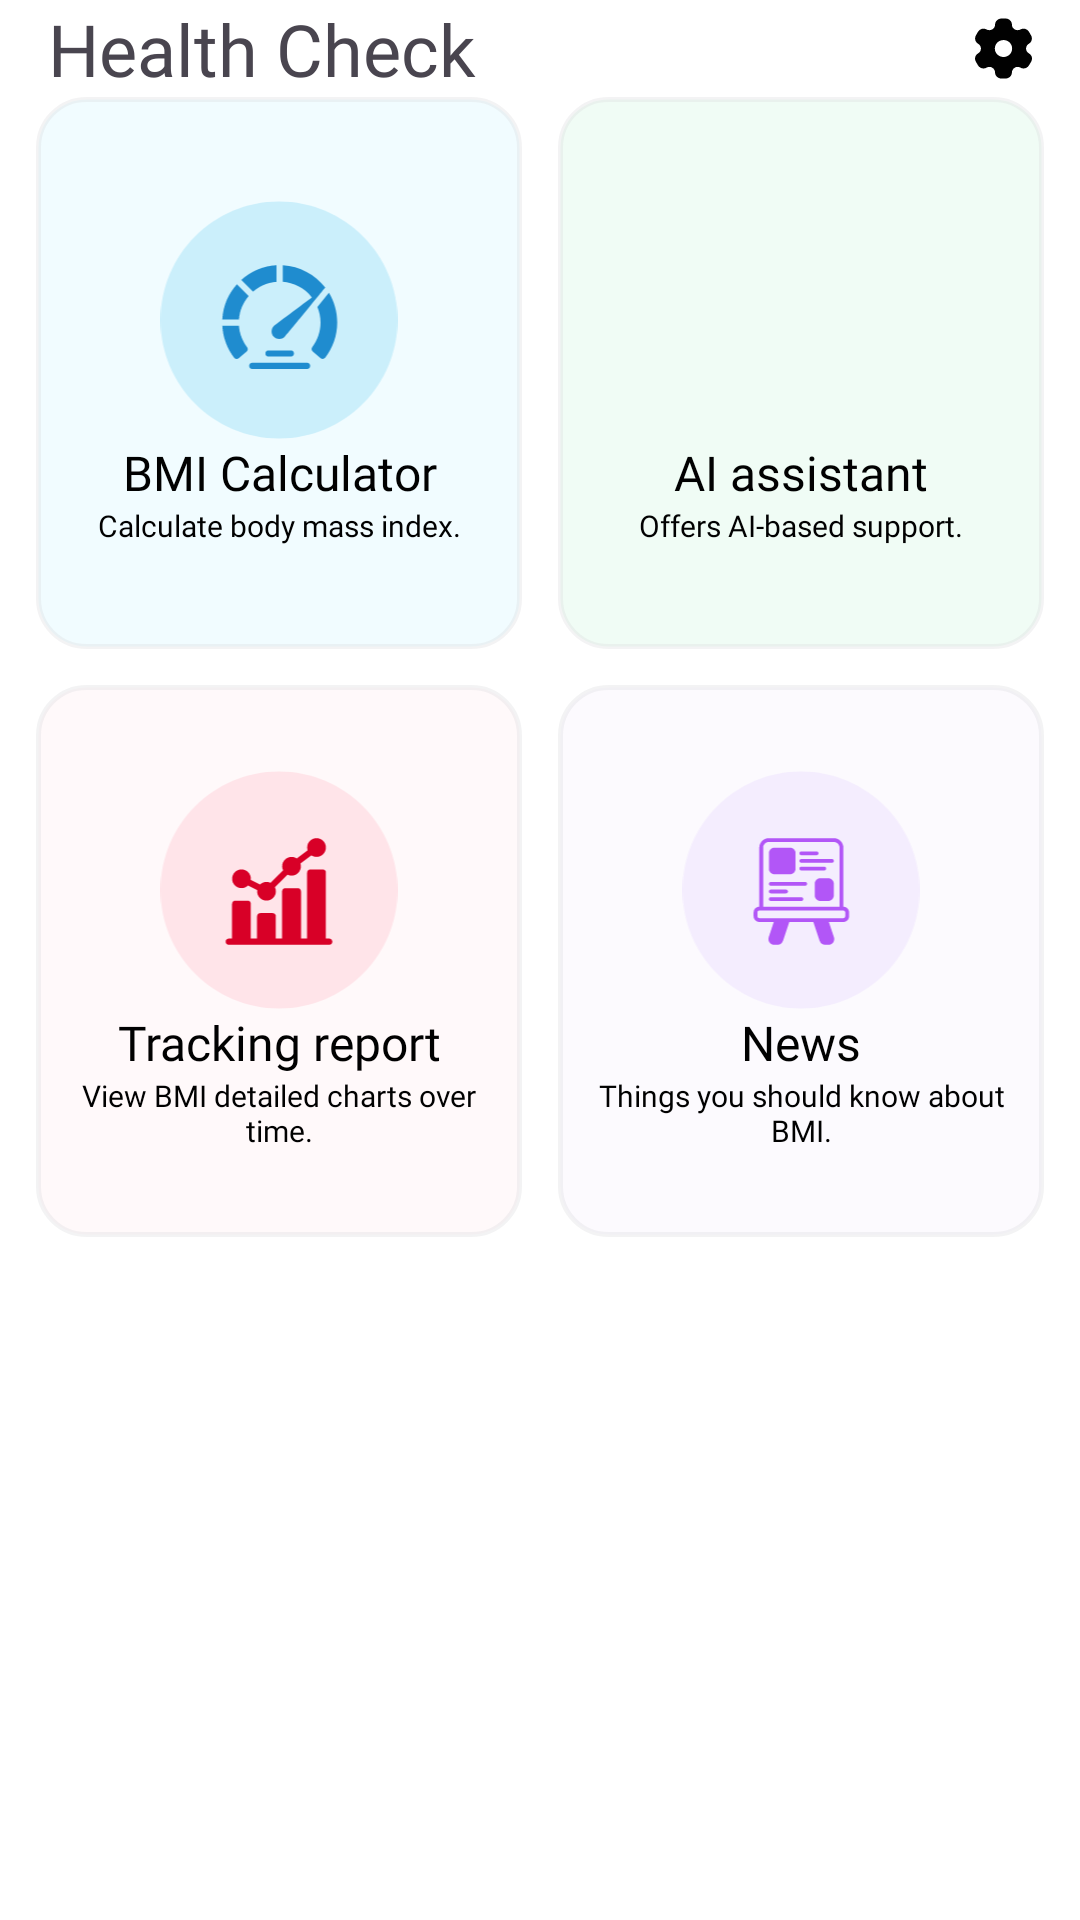

Screen size 1080 x 1920. Icon name, then its center in pixels as (x,y):
setting: (1003,48)
